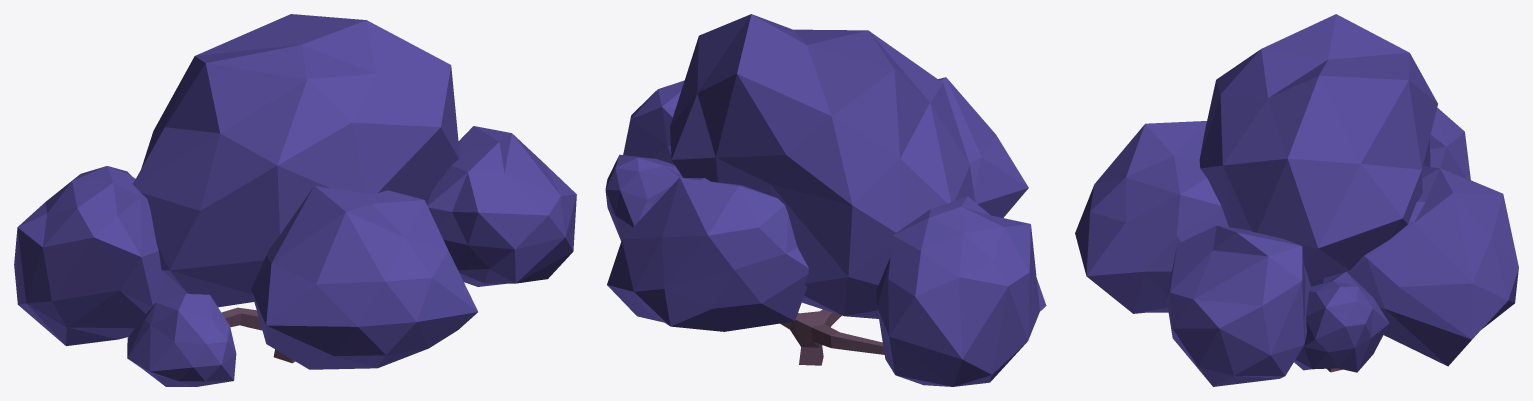
Rendered from bush1.fbx.
3 views of the same model, side by side, from view 1: azimuth 30°, elevation 25°; view 2: azimuth 150°, elevation 25°; view 3: azimuth 270°, elevation 25° (orthographic).
Visible parts, largest first — view 1: bush1; view 2: bush1; view 3: bush1.
Boxes of the visible parts, bbox=[...] form: bush1: bbox=[14, 14, 576, 386]; bush1: bbox=[605, 14, 1046, 386]; bush1: bbox=[1075, 14, 1518, 386].
Bounding box in the file's own units: 316 × 210 × 261.
